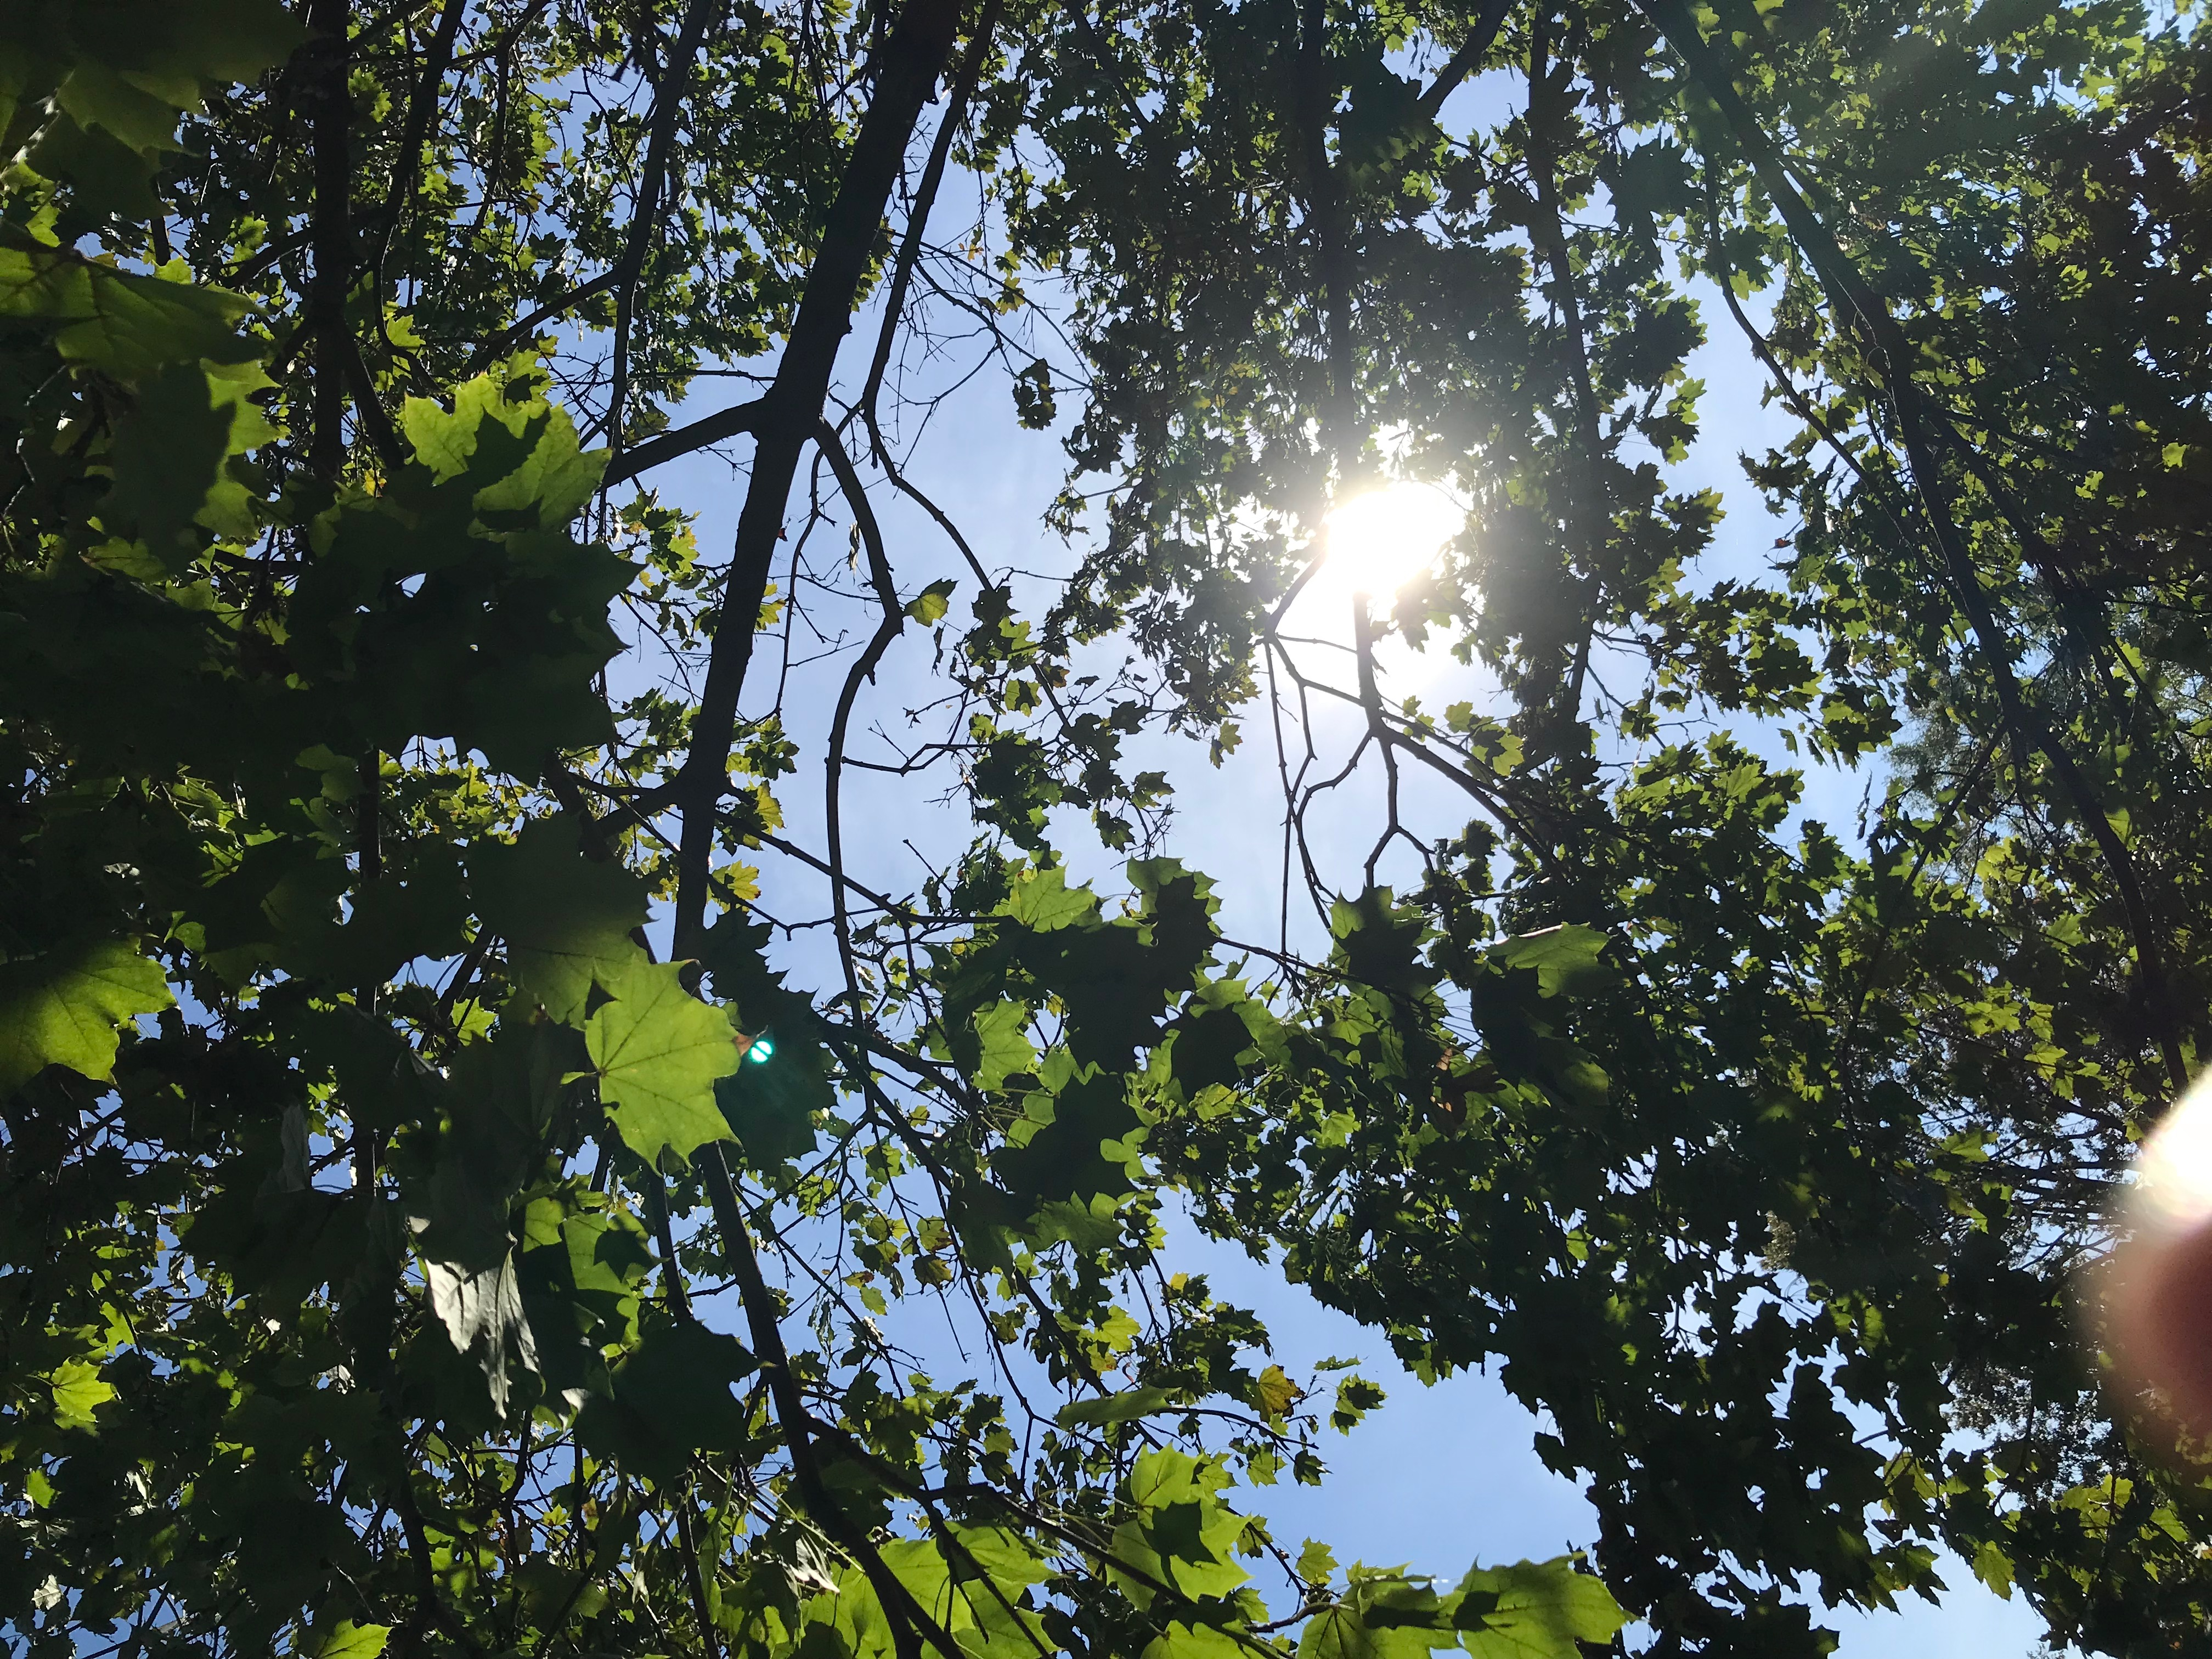flare: (747, 1039, 777, 1065)
